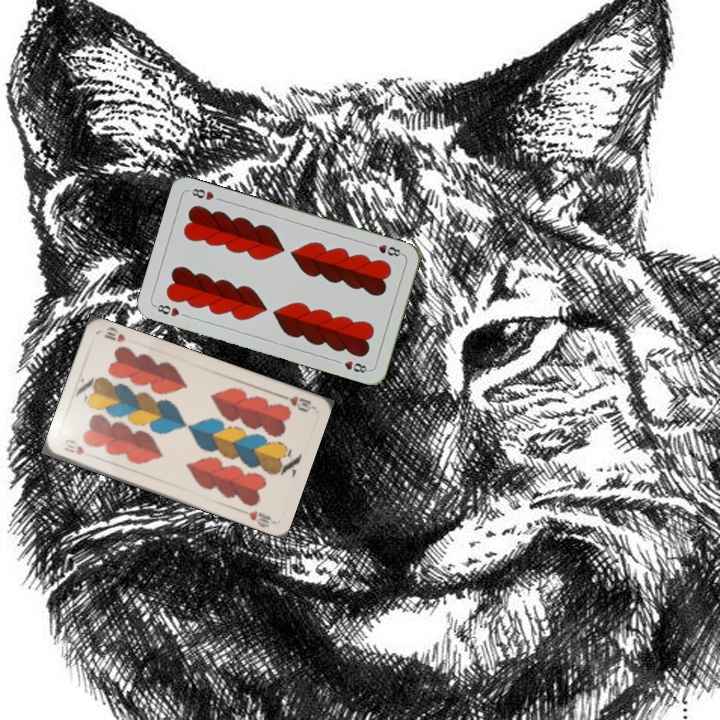H10: (276, 391, 316, 415), (60, 442, 87, 458)
H8: (366, 240, 406, 259), (151, 300, 182, 319)
